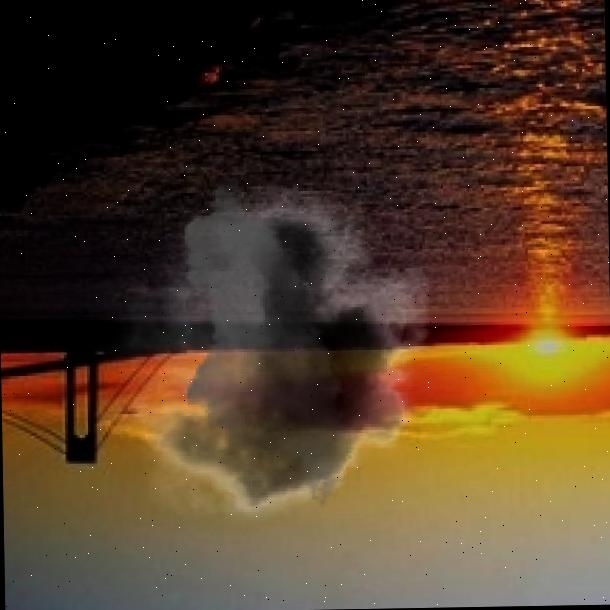smoke: (87, 177, 453, 540)
